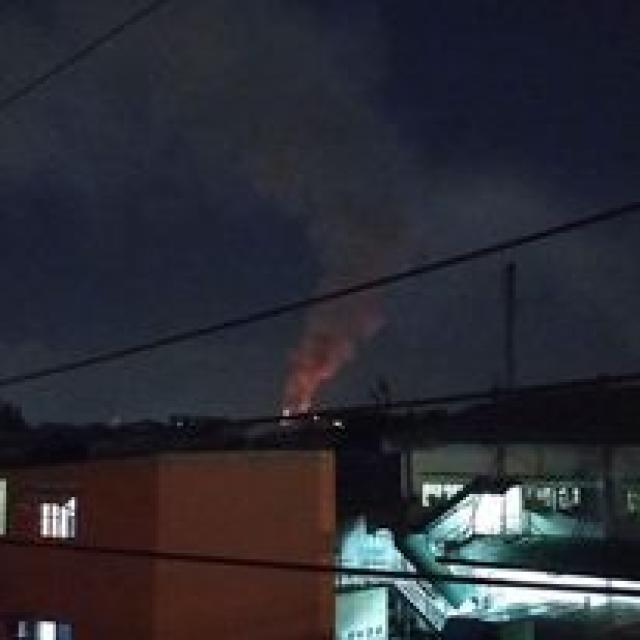Smoke: (186, 0, 392, 354)
